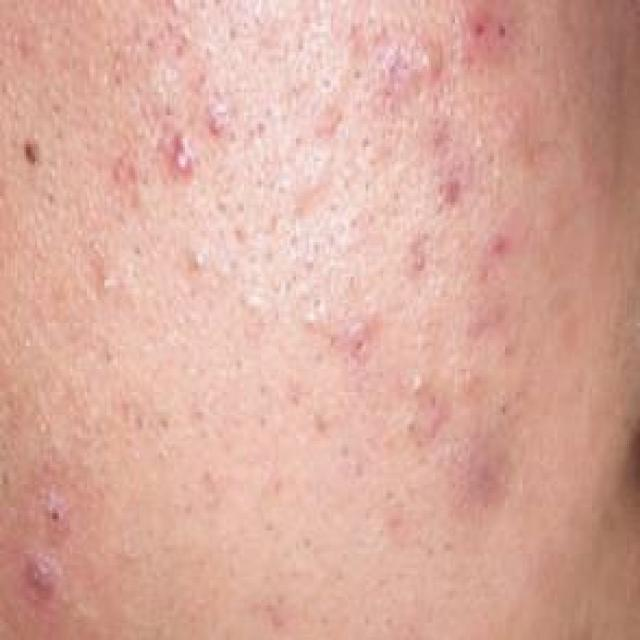Acne: (458, 4, 522, 62), (16, 546, 66, 605), (160, 124, 202, 184), (41, 484, 73, 538), (411, 33, 445, 83), (480, 226, 514, 264), (204, 94, 232, 140), (435, 171, 463, 209)
